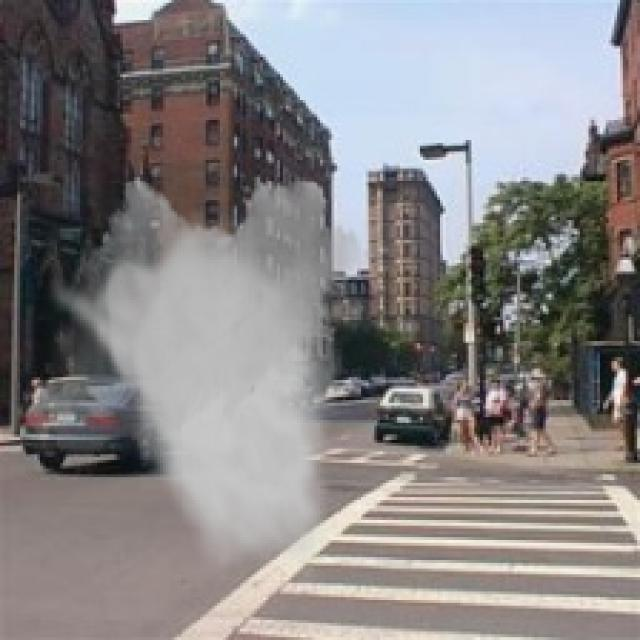smoke: (14, 165, 372, 586)
